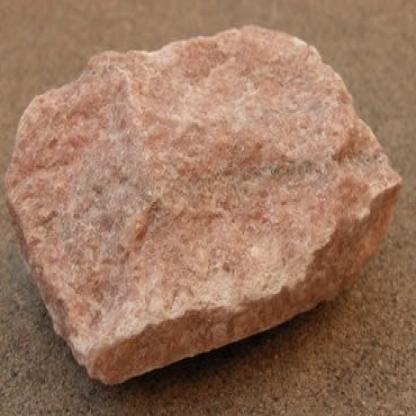Metamorphic_Marble: (1, 13, 409, 393)
